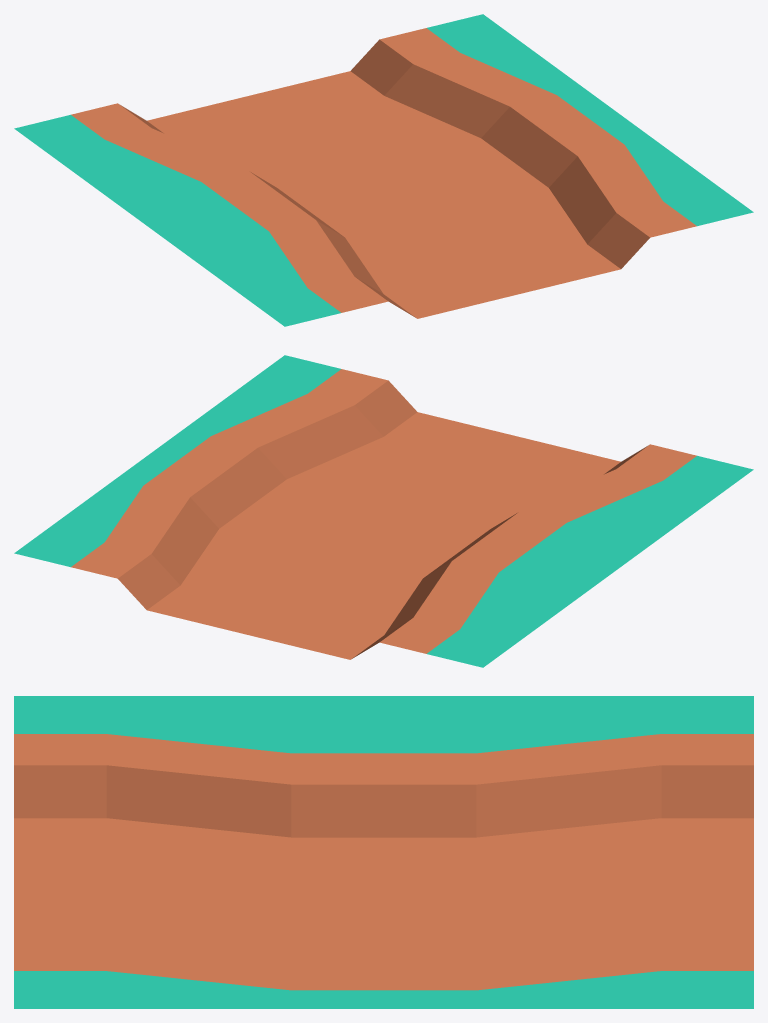
File: pathStraight.obj
3 renders of one model, top to bottom at view 1: azimuth 30°, elevation 25°; view 2: azimuth 150°, elevation 25°; view 3: azimuth 270°, elevation 25°, orthographic. The views are drawn at different scales.
Bounding box in the file's own units: 1 × 0.05 × 1.
